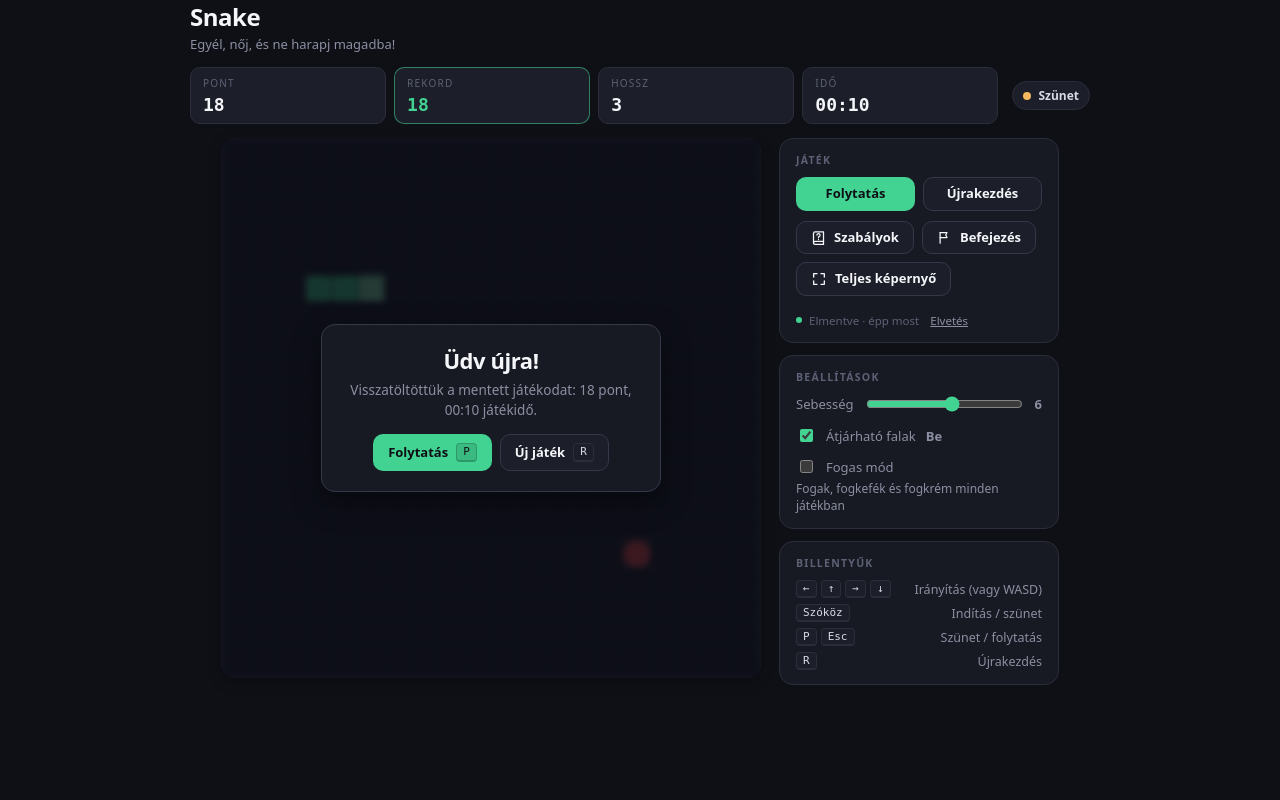
Test: Snake finish early › confirms with the Score value, ranks it once and shows the finished card
What coordinates should you click on to do the following:
click the button "Befejezés"
I would click on:
 (979, 237)
Its box is [922, 221, 1036, 254].
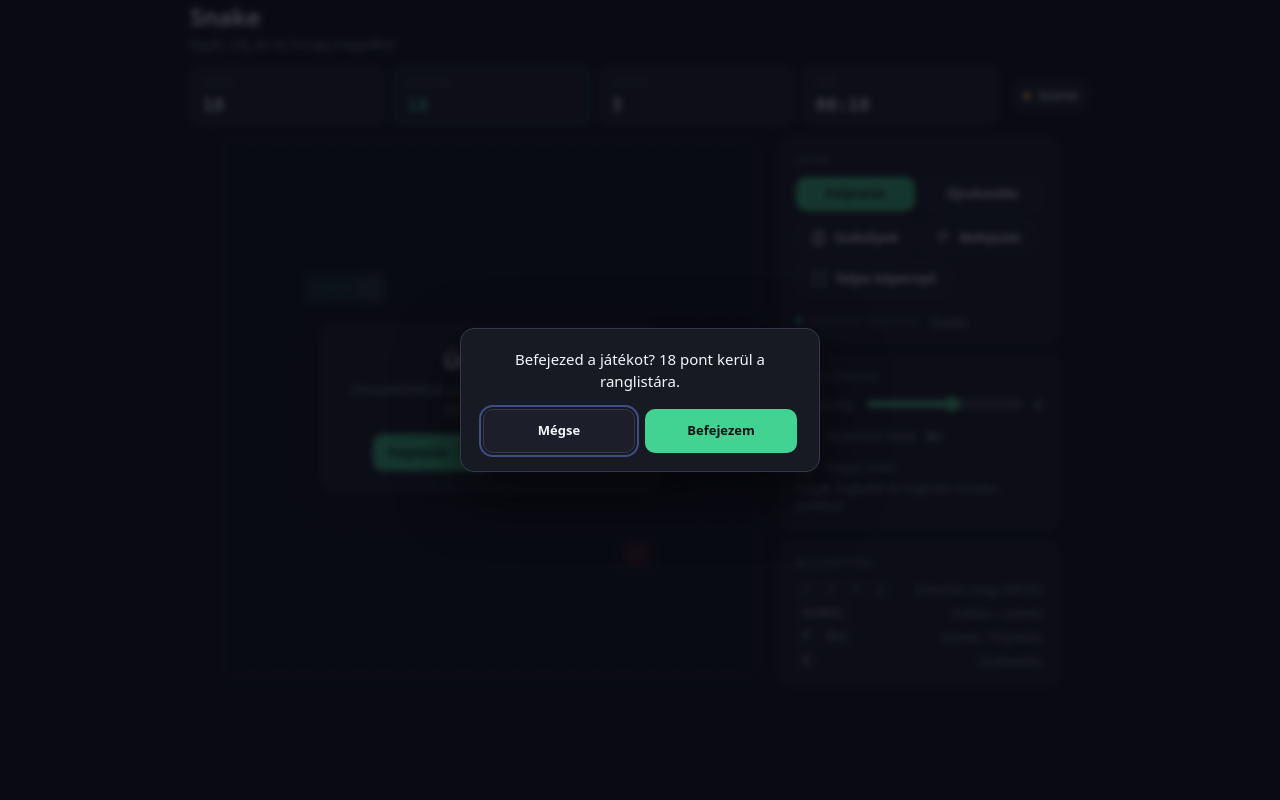
Expected: the dialog shows "18 pont kerül a ranglistára", [515, 349, 765, 391]
What coordinates should you click on to do the following:
click the button "Befejezem"
I would click on:
 (721, 431)
Its box is [645, 409, 797, 453].
Wait 2000 ms
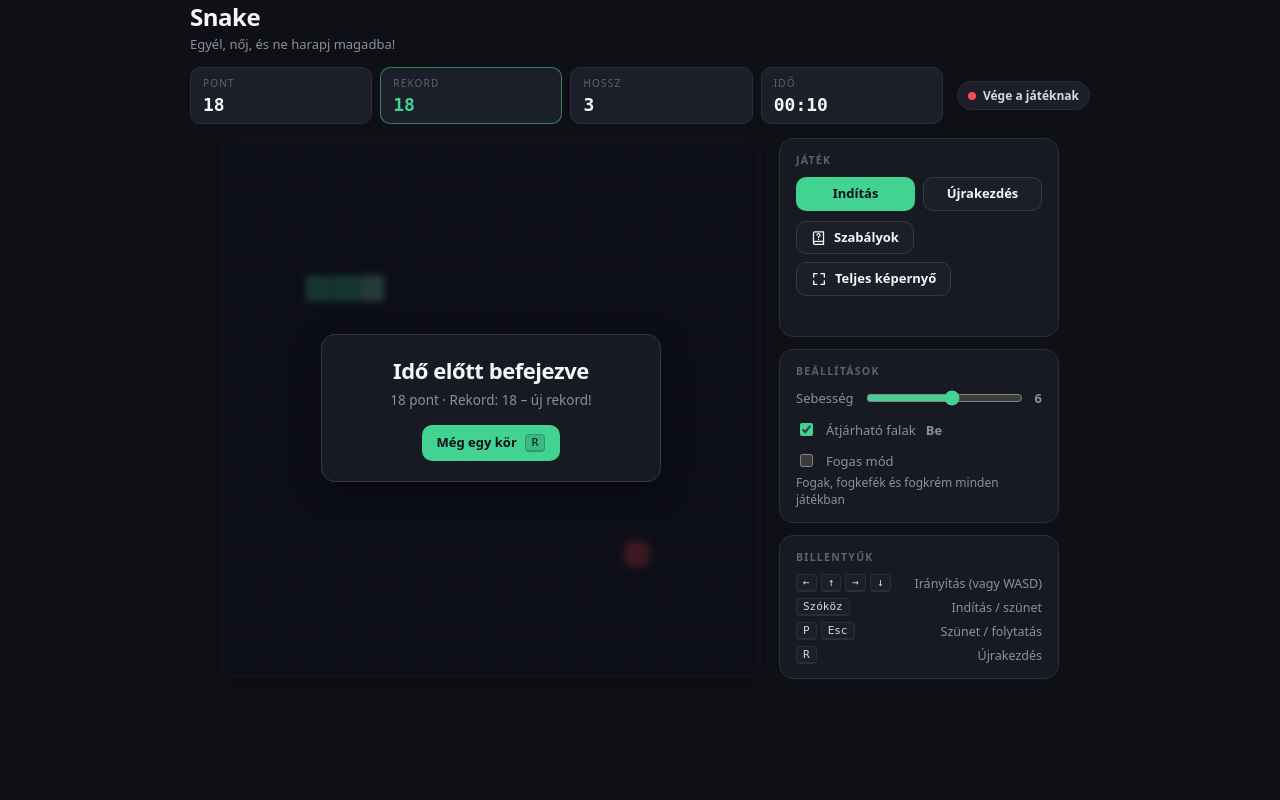
Expected: the dialog "Idő előtt befejezve" is shown, [221, 138, 761, 678]
